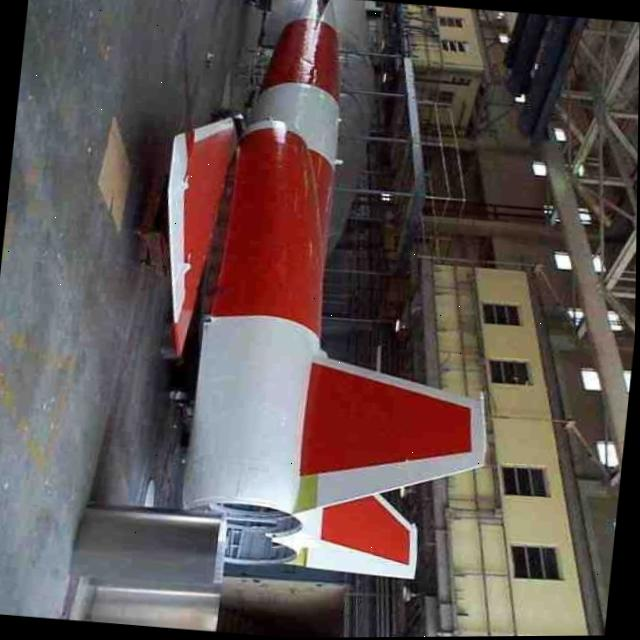missile: (132, 0, 522, 578)
